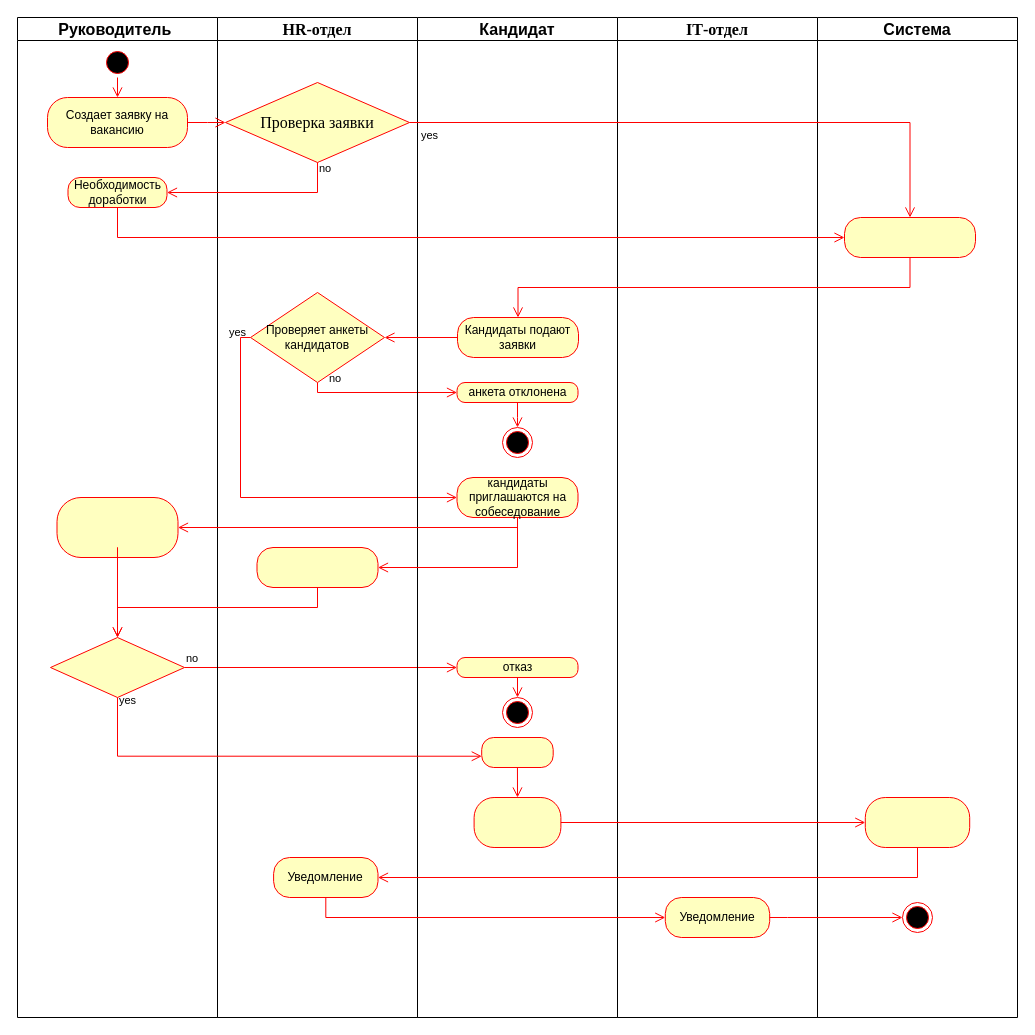
Image size: 1035x1035. Some labels were removed from this diagram. The shapes that lost their labels are listed below. From the top down, each one's box as (x1, y1, x2, y2) in pixels, then its label:
(844, 216, 976, 258): Вакансия публикуется на сайте компании
(56, 496, 178, 558): Проводит техническое собеседование
(256, 546, 378, 588): HR-менеджер проводит интервью
(50, 636, 184, 698): Решение собеседования
(481, 736, 553, 768): оффер
(473, 796, 561, 848): Подтверждает оффер
(864, 796, 970, 848): Добавляет нового сотрудника
